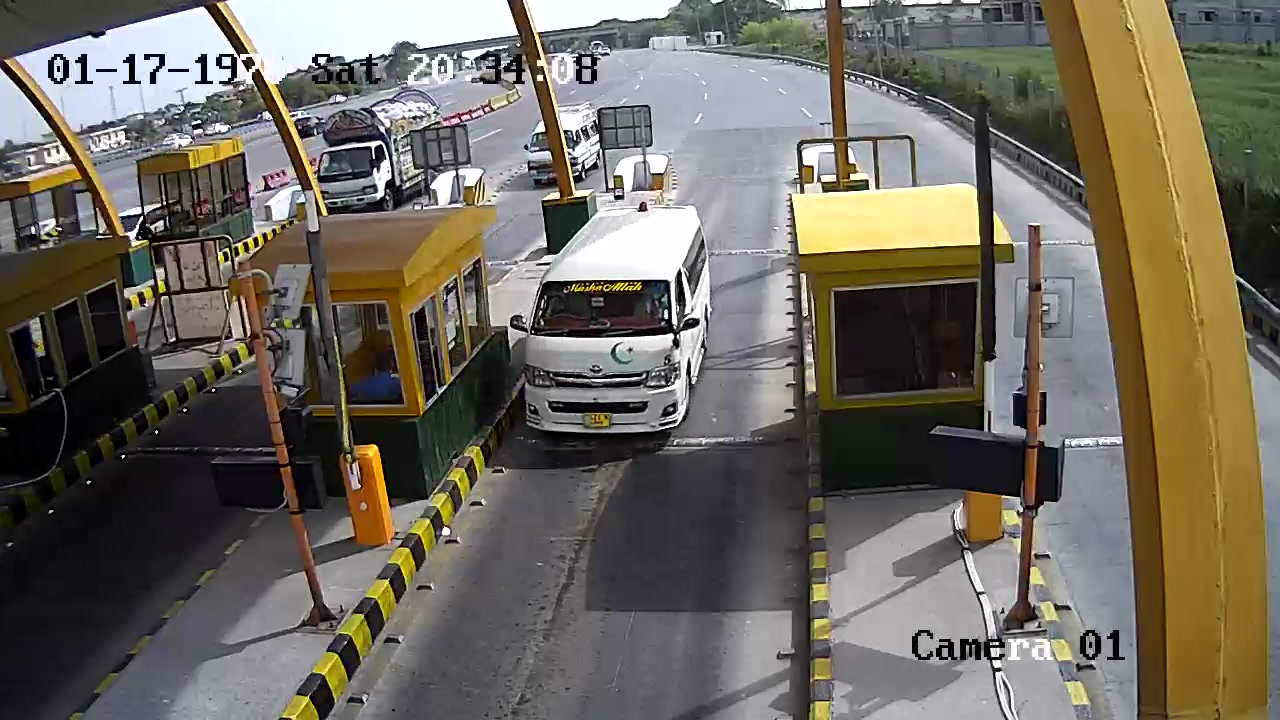F3: (502, 190, 724, 460)
